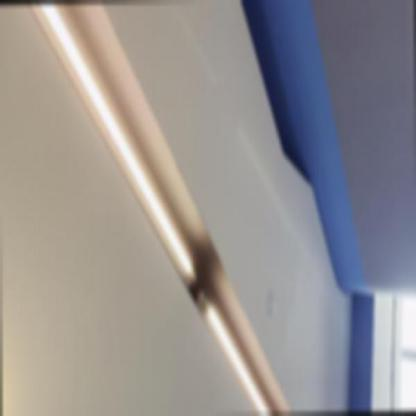light_on: (28, 0, 202, 294), (194, 282, 273, 414)
